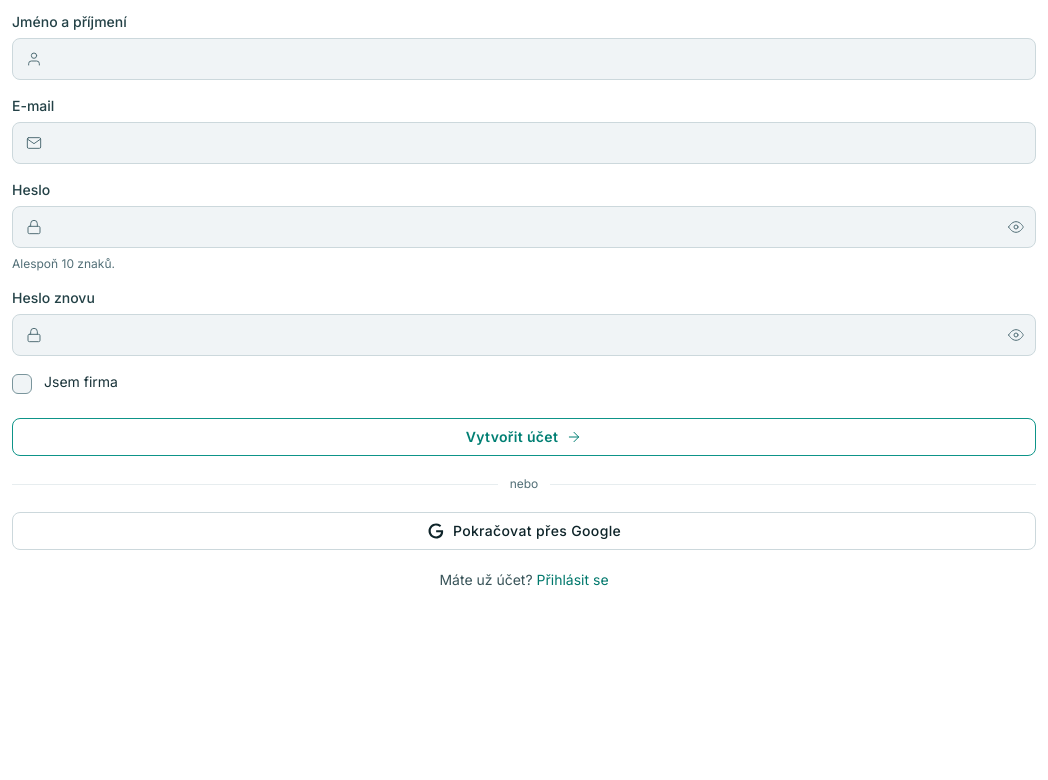
Test case: RegisterForm — password confirm + reveal › submits once both fields agree, sending the password only once
In the field labelled "Jméno a příjmení": (524, 59) left=12, top=38, right=1036, bottom=80, type "Anna Nováková"
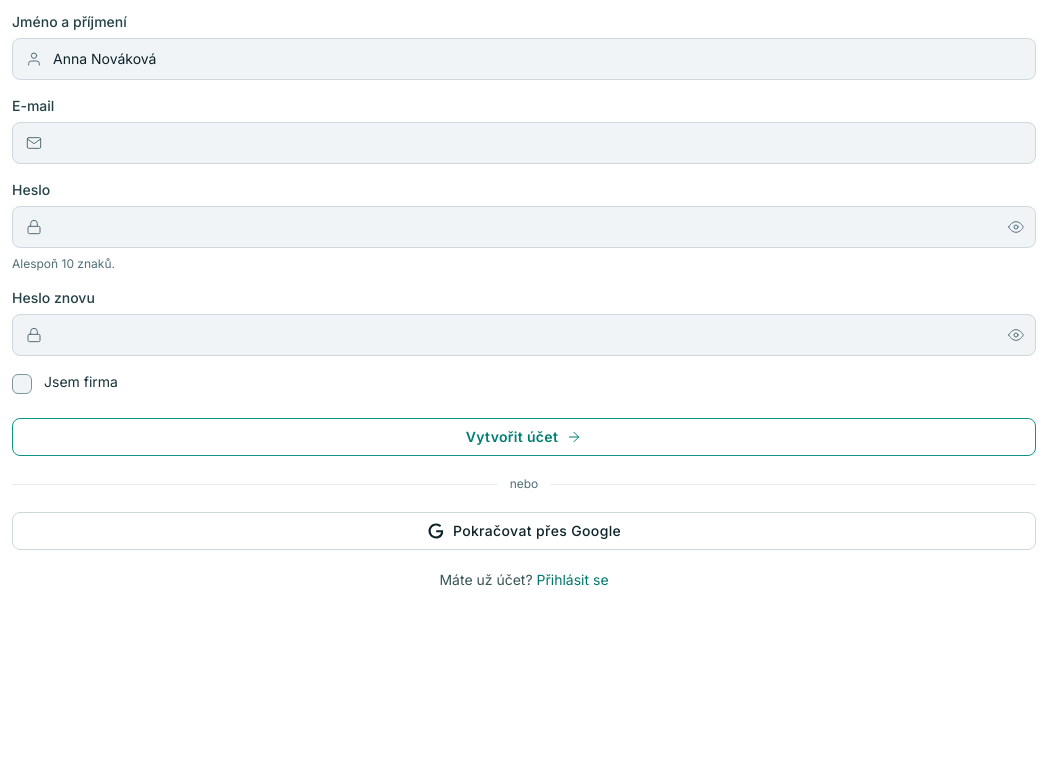
In the field labelled "E-mail": (524, 143) left=12, top=122, right=1036, bottom=164, type "anna@example.cz"
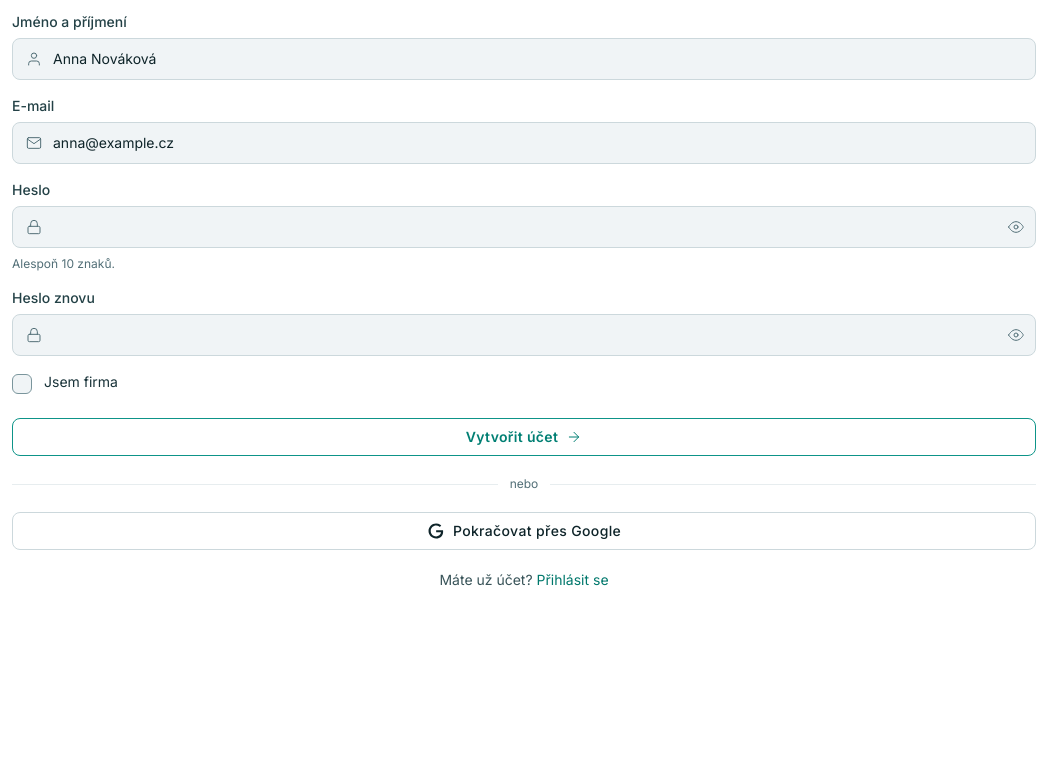
In the password field labelled "Heslo": (524, 227) left=12, top=206, right=1036, bottom=248, type "abcd1234567"
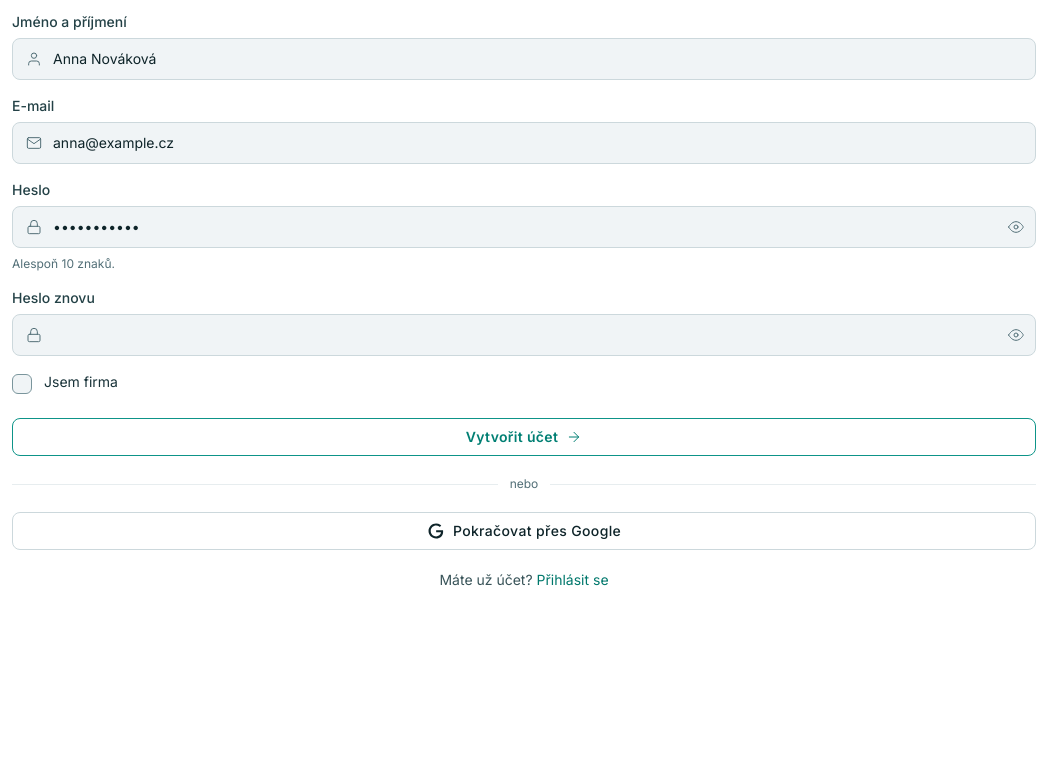
In the password field labelled "Heslo znovu": (524, 335) left=12, top=314, right=1036, bottom=356, type "abcd1234567"
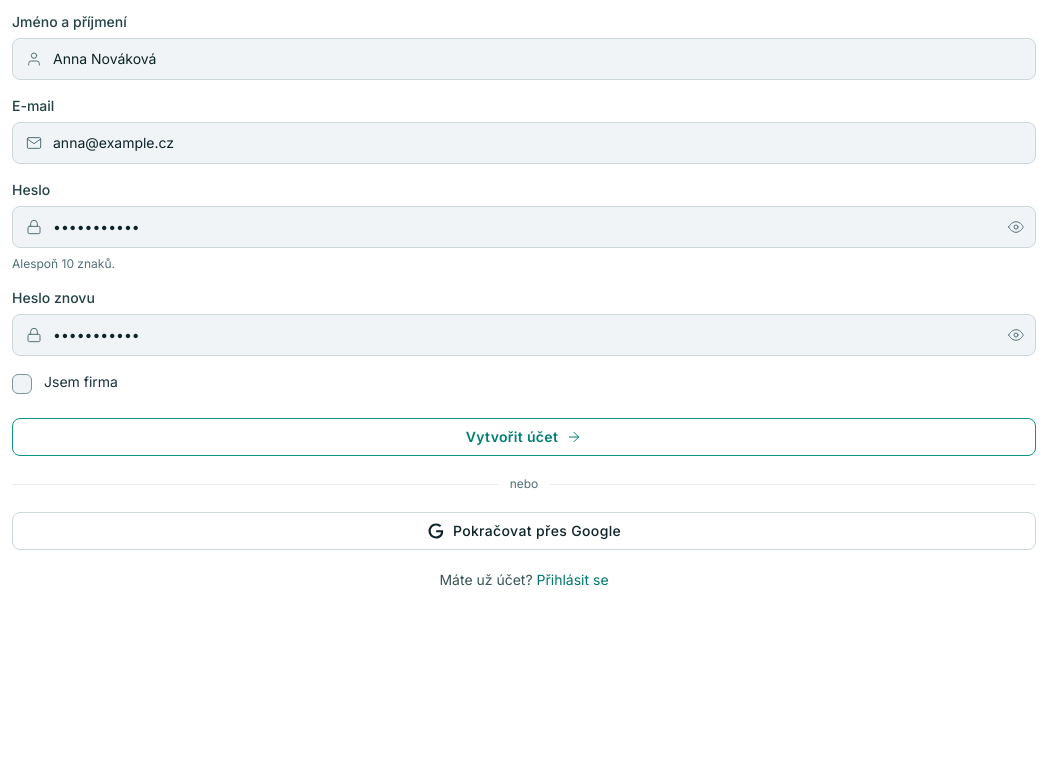
Click the button "Vytvořit účet": click(524, 437) left=12, top=418, right=1036, bottom=456
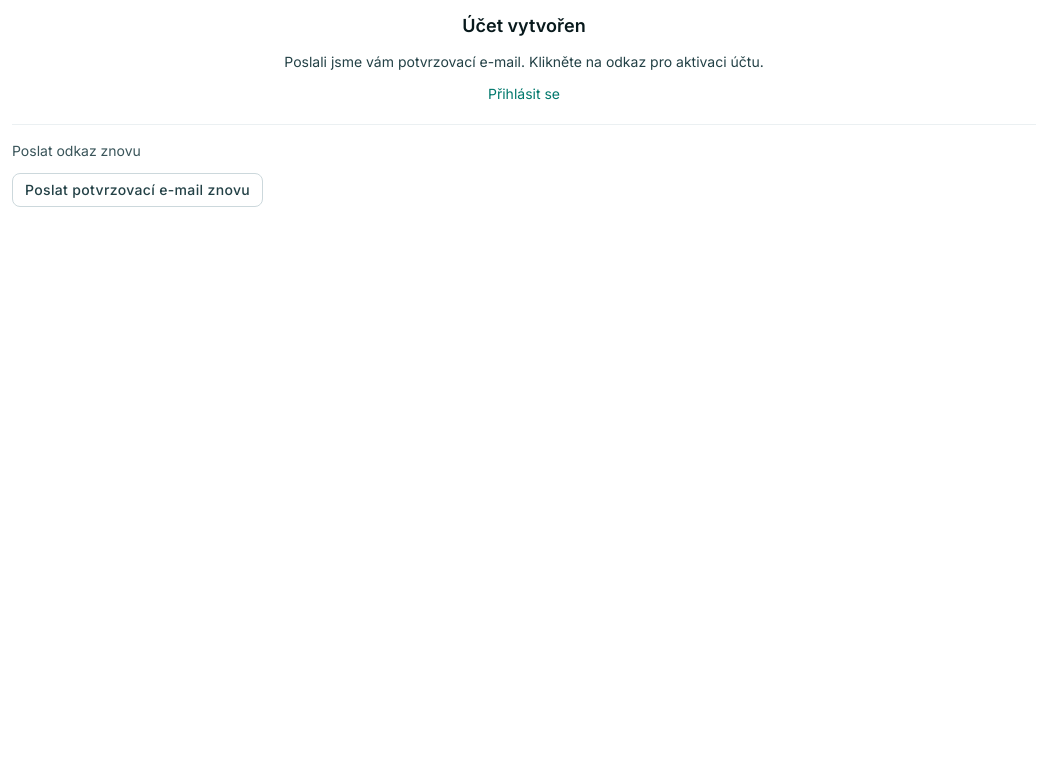
Result: the heading "Účet vytvořen" is shown at left=462, top=12, right=586, bottom=40
